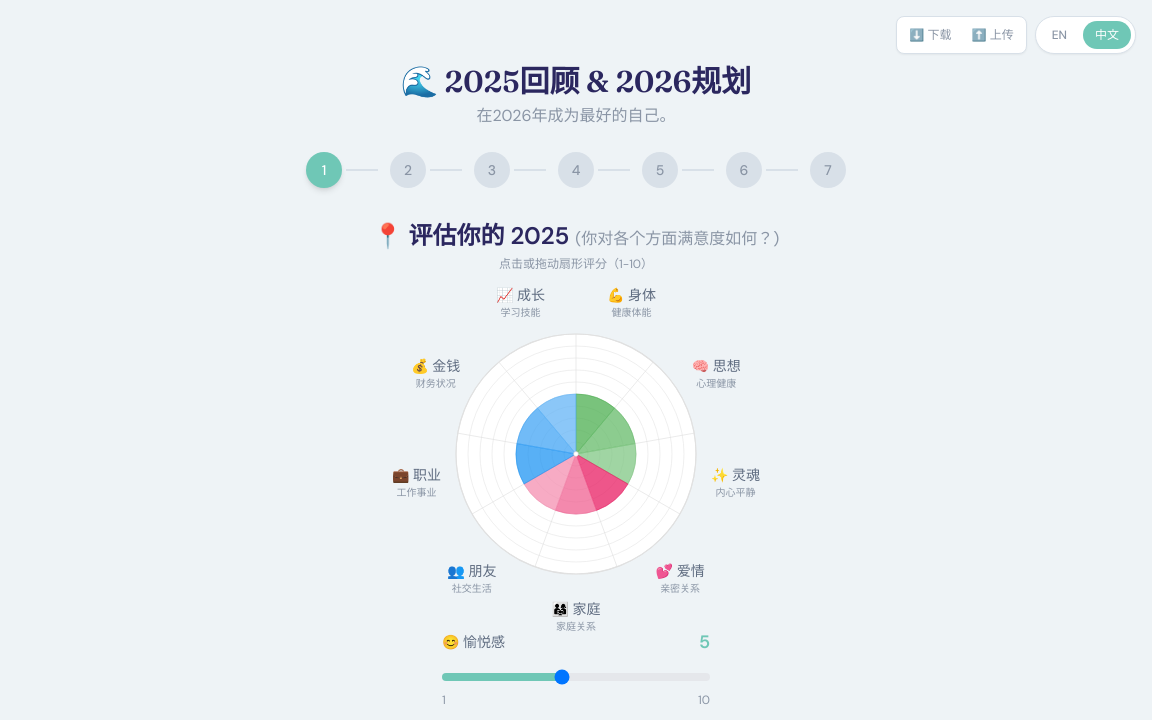
Test case: App - Language Switching › should switch to English when clicking EN button
Note: Find and click the EN button
Click the button "EN".
click(1059, 35)  # box x1=1040 y1=21 x2=1079 y2=49
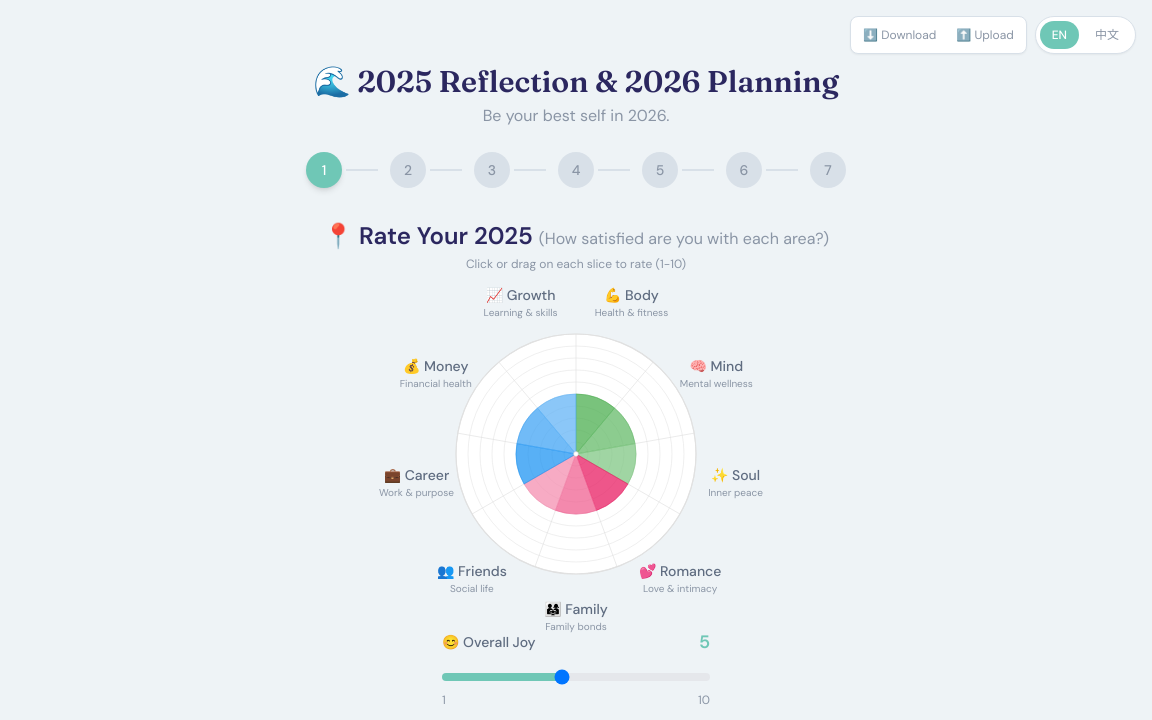
Check: the heading "🌊 2025 Reflection & 2026 Planning" is shown, box x1=313 y1=63 x2=839 y2=100
Check: the text "Be your best self in 2026." is shown, box x1=483 y1=105 x2=669 y2=126
